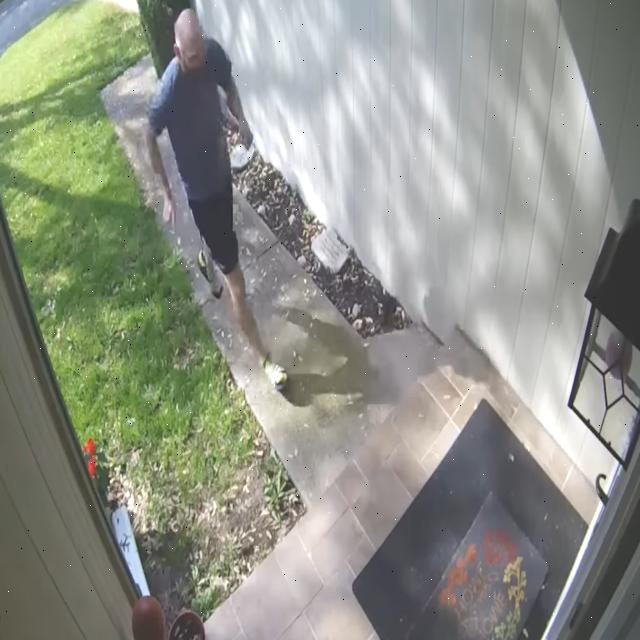standing: (146, 9, 288, 389)
